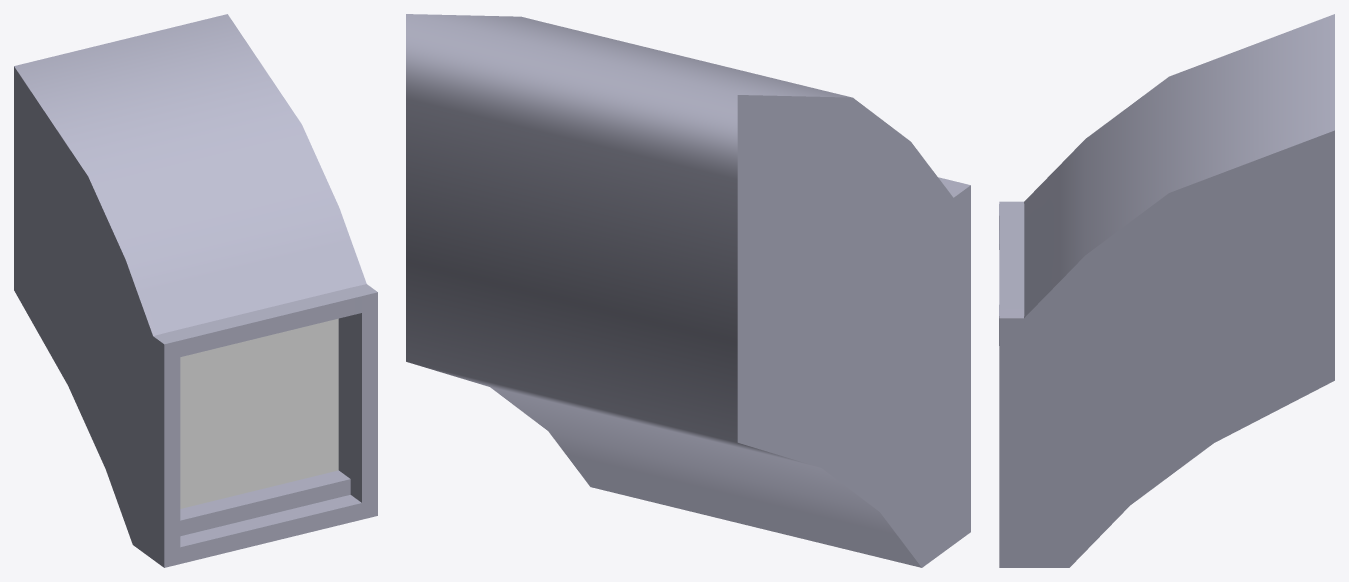
The model's file is Exit.fbx.
3 views of the same model, side by side, from view 1: azimuth 30°, elevation 25°; view 2: azimuth 150°, elevation 25°; view 3: azimuth 270°, elevation 25° (orthographic). The views are drawn at different scales.
Parts seen in each view (by area): view 1: Exit; view 2: Exit; view 3: Exit.
Part boxes in pixels (x1,y1,x2,y2): Exit: [14, 14, 377, 567]; Exit: [406, 14, 970, 567]; Exit: [999, 14, 1334, 567].
Size of the model in its own units: 4.7 by 8.24 by 5.73.
